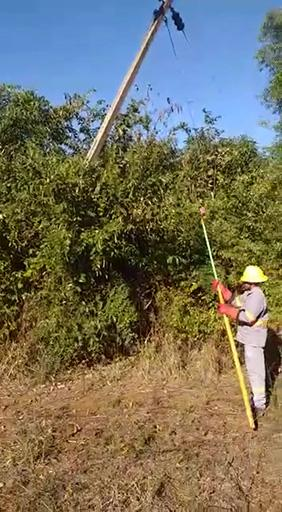Vara_Manobra: (200, 220, 255, 430)
